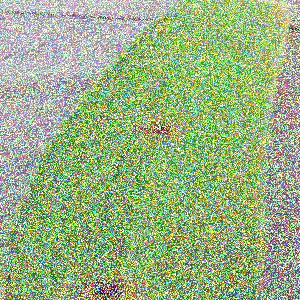Bacterial_Leaf_Blight: (129, 114, 184, 141), (90, 283, 130, 300), (72, 275, 109, 293), (200, 245, 221, 258), (84, 179, 102, 191), (151, 217, 169, 229), (203, 17, 218, 28), (126, 266, 144, 274), (112, 276, 129, 284), (271, 37, 285, 46)
